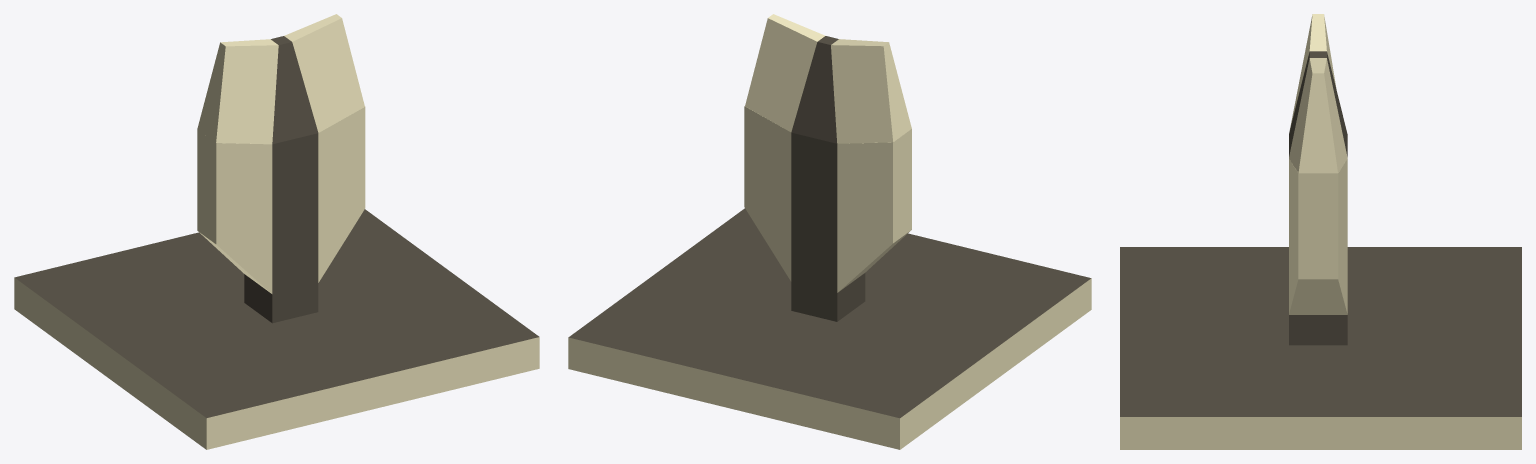
The model's file is raft.glb.
3 views of the same model, side by side, from view 1: azimuth 30°, elevation 25°; view 2: azimuth 150°, elevation 25°; view 3: azimuth 270°, elevation 25° (orthographic). The views are drawn at different scales.
Parts seen in each view (by area): view 1: Cube; view 2: Cube; view 3: Cube.
Boxes of the visible parts, <box> form: Cube: <box>14,14,539,449</box>; Cube: <box>568,14,1091,449</box>; Cube: <box>1120,14,1521,449</box>.
Size of the model in its own units: 2 by 1.77 by 2.
